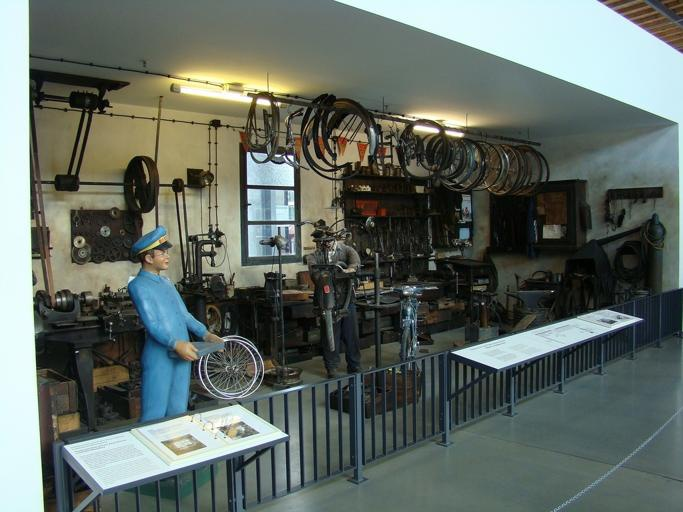non-vehicle: (296, 219, 363, 352), (393, 284, 422, 374)
